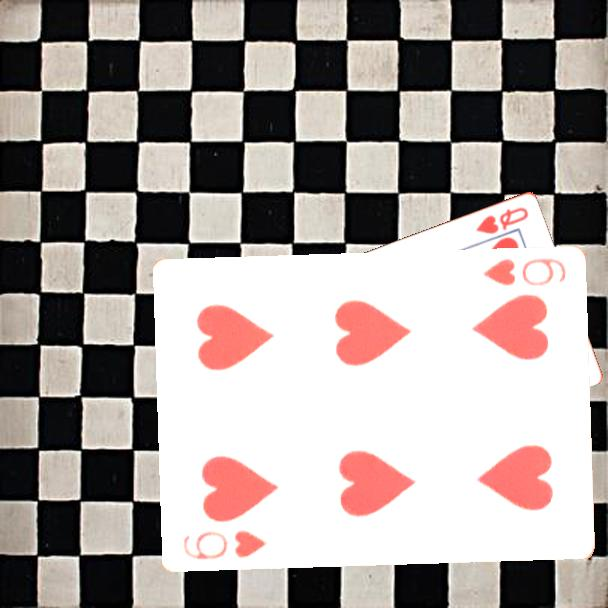h06: (179, 527, 269, 563), (479, 255, 568, 290)
h12: (472, 203, 532, 237)
